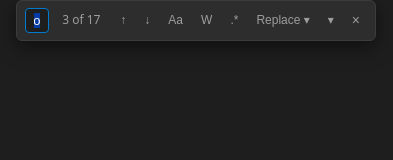
it: find panel UI (plan 07 task 7.2, issue #70) › the mode toggle expands and collapses the replace row
This screenshot has width=393, height=160.
Click the button "Replace ▾".
click(283, 20)  # box top-left (249, 8), bottom-right (317, 33)
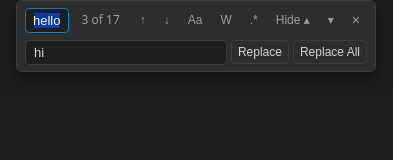
expect the button with aria-label "Toggle replace row" is expanded: met, box top-left (269, 8), bottom-right (317, 33)
